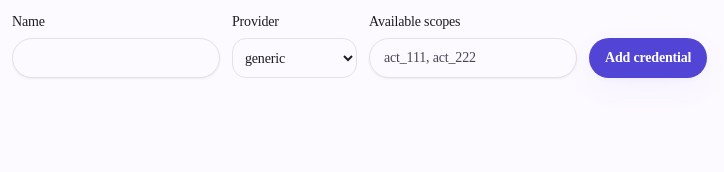
Test: CreateCredentialForm › shows an inline error when creation fails
The image size is (724, 172).
Type "X" into the field labelled "Name" at [116, 58], box [12,38,220,78]
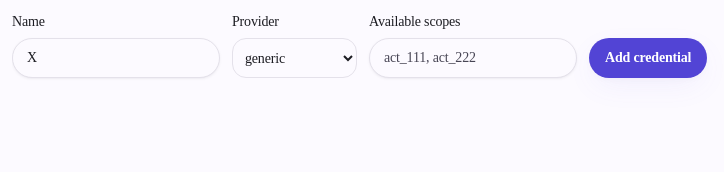
Click the button "Add credential" at [648, 58], box [589,38,707,78]
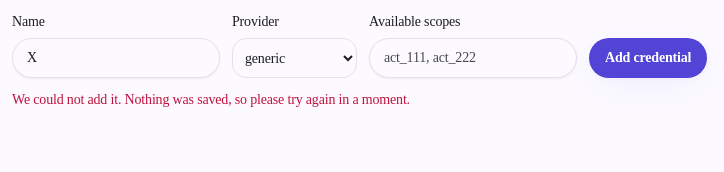
Expected: the message reads "We could not add it. Nothing was saved, so please try again in a moment.", [12,92,410,107]
